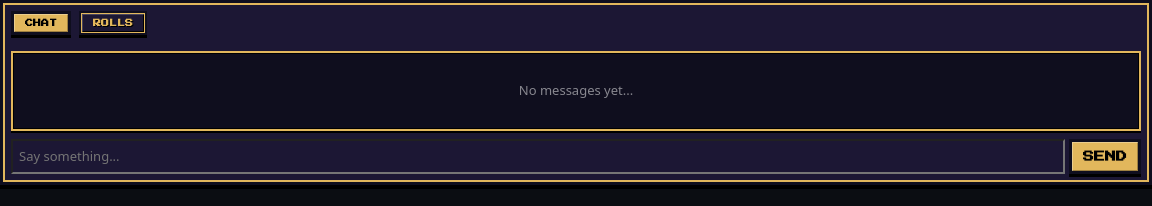
Test: Chat & Rolls accessible tabs › moves focus and selection from CHAT with ArrowRight to ROLLS without bubbling
Click the tab "CHAT".
click(41, 23)  # box left=11, top=11, right=71, bottom=35
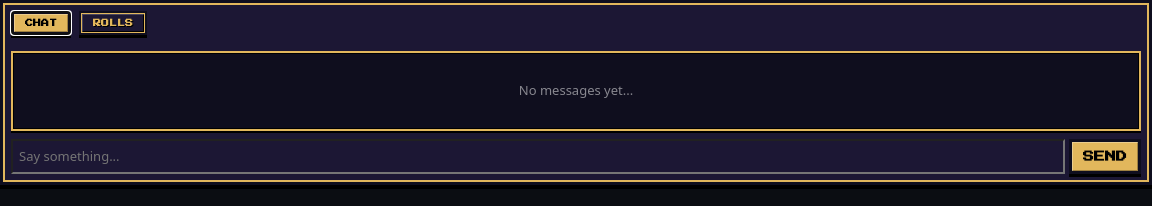
Press ArrowRight in the tab "CHAT", box left=11, top=11, right=71, bottom=35
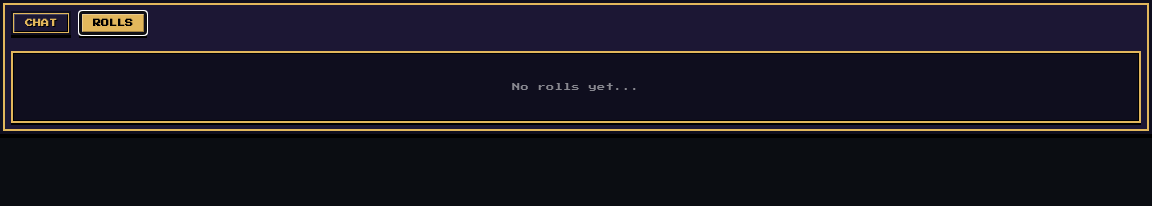
Check: the panel "rolls" is shown, box left=11, top=51, right=1141, bottom=123
